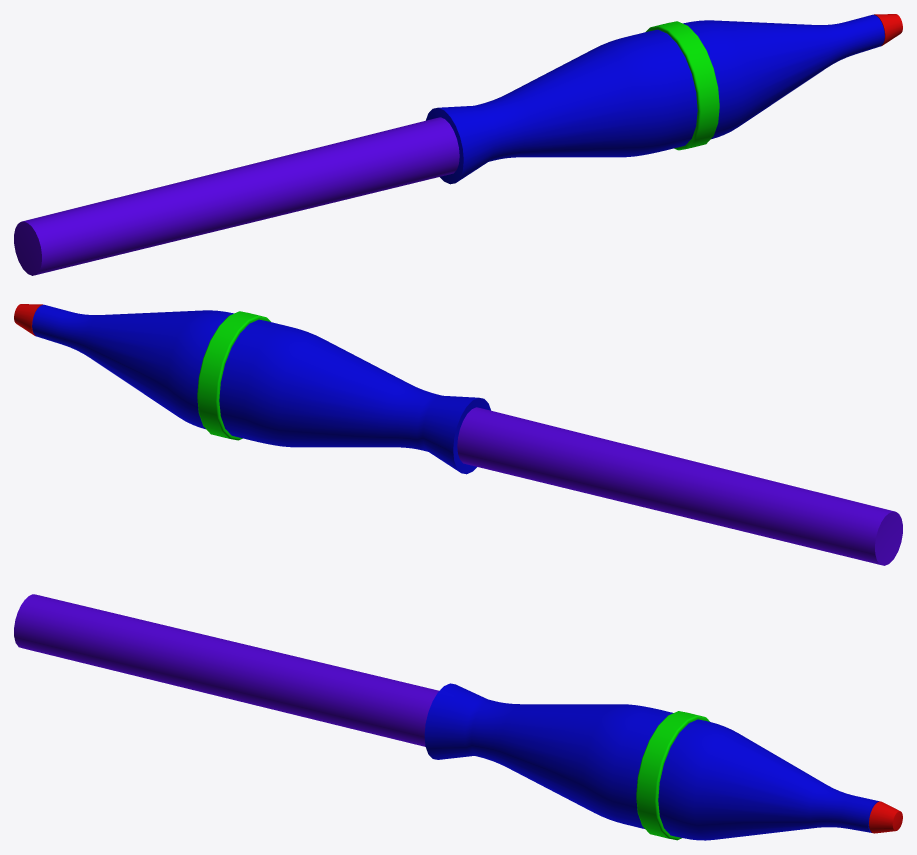
Rendered from Rocket.fbx.
3 views of the same model, one above another, from view 1: azimuth 30°, elevation 25°; view 2: azimuth 150°, elevation 25°; view 3: azimuth 330°, elevation 25° (orthographic).
Visible parts, largest first — view 1: Rocket; view 2: Rocket; view 3: Rocket.
Part boxes in pixels (<box>): Rocket: <box>14,14,902,275</box>; Rocket: <box>14,304,902,565</box>; Rocket: <box>14,594,902,840</box>.
Bounding box in the file's own units: 5.66 × 0.7203 × 0.7203.
